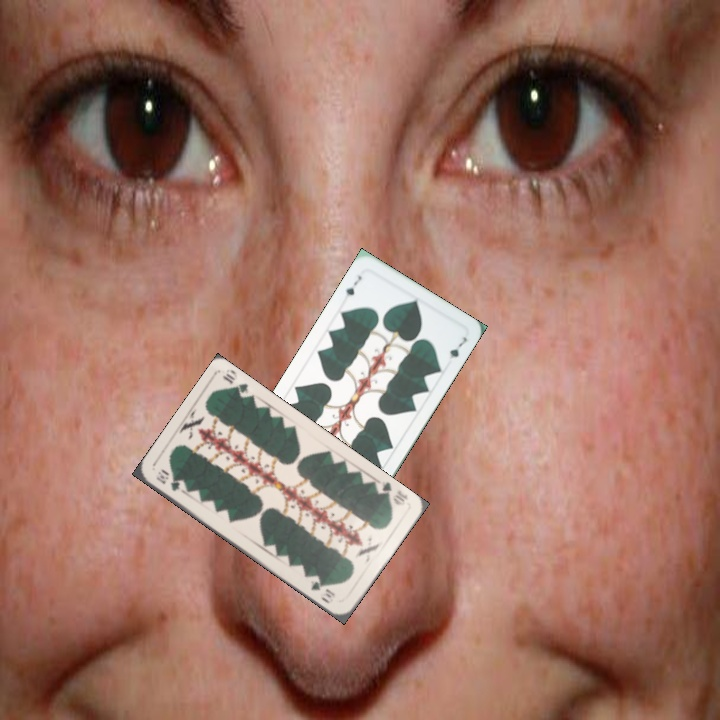G10: (372, 477, 411, 508), (152, 466, 183, 494)
G7: (342, 272, 364, 299)
